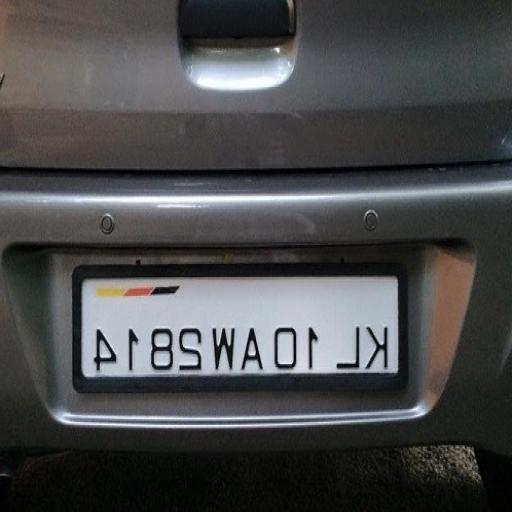License: (80, 268, 402, 378)
